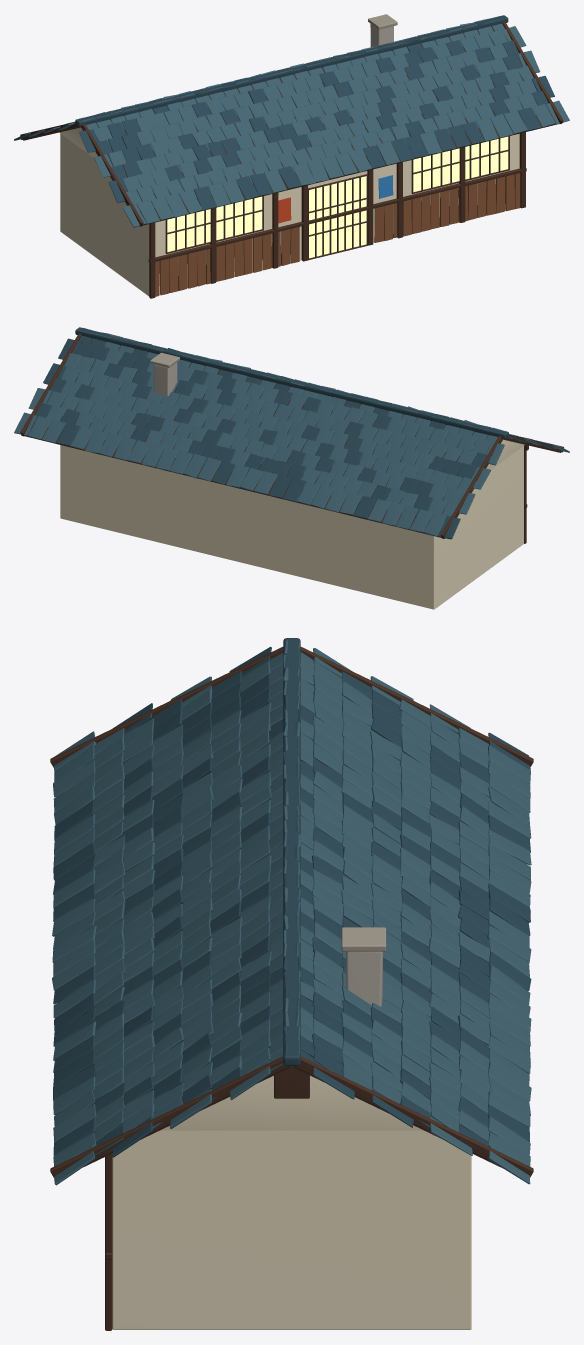
The model's file is station_building.glb.
3 views of the same model, one above another, from view 1: azimuth 30°, elevation 25°; view 2: azimuth 150°, elevation 25°; view 3: azimuth 270°, elevation 25° (orthographic). The views are drawn at different scales.
Visible parts, largest first — view 1: walls, ridge, door_glow, win_r_glow, win_l_glow, rail_mid, roof_deck, barge, post, post.001, post.006, post.003 (+10 smaller); view 2: walls, ridge, roof_deck.001, chimney, barge.001, barge.003; view 3: walls, gable.001, ridge, barge.003, barge.002, chimney, barge, barge.001, post.007, chimney_cap, gable_vent.001.
Part boxes in pixels (x1=…): walls: x1=60, y1=133, x2=519, y2=296; ridge: x1=75, y1=15, x2=508, y2=126; door_glow: x1=309, y1=176, x2=366, y2=258; win_r_glow: x1=413, y1=136, x2=508, y2=192; win_l_glow: x1=167, y1=196, x2=262, y2=252; rail_mid: x1=148, y1=168, x2=526, y2=262; roof_deck: x1=96, y1=27, x2=556, y2=225; barge: x1=81, y1=124, x2=143, y2=226; post: x1=149, y1=222, x2=155, y2=298; post.001: x1=210, y1=208, x2=216, y2=283; post.006: x1=459, y1=147, x2=465, y2=222; post.003: x1=301, y1=185, x2=307, y2=261; walls: x1=60, y1=445, x2=523, y2=609; ridge: x1=75, y1=327, x2=508, y2=439; roof_deck.001: x1=24, y1=338, x2=473, y2=537; chimney: x1=153, y1=362, x2=177, y2=396; barge.001: x1=440, y1=436, x2=503, y2=538; barge.003: x1=20, y1=333, x2=81, y2=436; walls: x1=112, y1=1130, x2=471, y2=1329; gable.001: x1=160, y1=1075, x2=423, y2=1130; ridge: x1=283, y1=638, x2=300, y2=1065; barge.003: x1=293, y1=1056, x2=533, y2=1177; barge.002: x1=50, y1=1056, x2=290, y2=1177; chimney: x1=346, y1=951, x2=382, y2=1006; barge: x1=50, y1=647, x2=283, y2=767; barge.001: x1=300, y1=647, x2=533, y2=766; post.007: x1=105, y1=1153, x2=112, y2=1330; chimney_cap: x1=341, y1=927, x2=386, y2=951; gable_vent.001: x1=274, y1=1066, x2=309, y2=1098.
Bounding box in the file's own units: 14.1 × 4.88 × 6.72.
